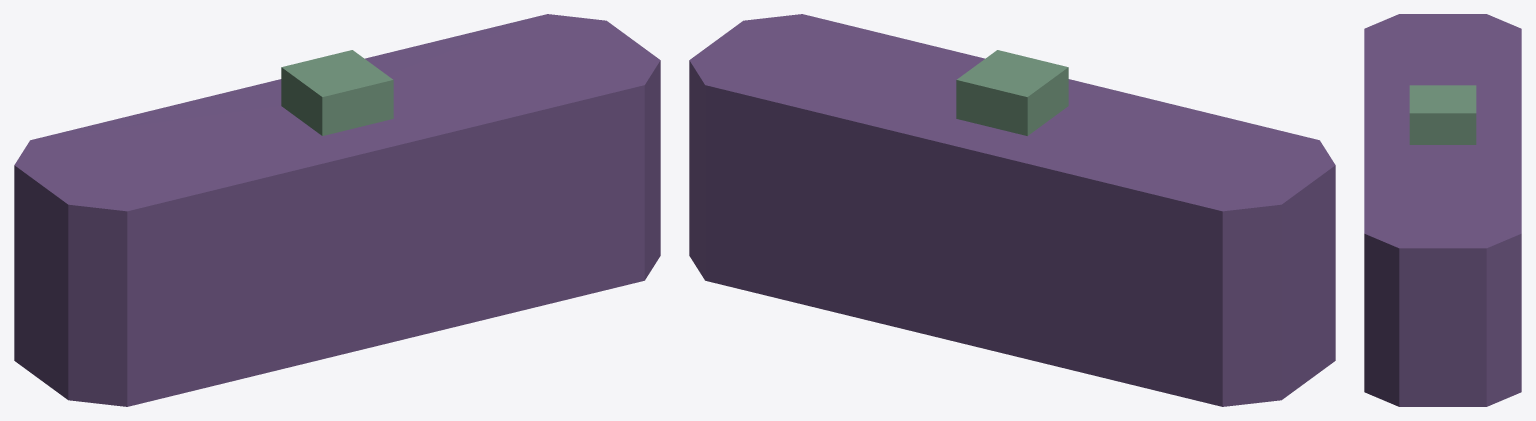
Rendered from 2_canonical.obj.
3 views of the same model, side by side, from view 1: azimuth 30°, elevation 25°; view 2: azimuth 150°, elevation 25°; view 3: azimuth 270°, elevation 25° (orthographic). The views are drawn at different scales.
Parts seen in each view (by area): view 1: geometry_1, geometry_0; view 2: geometry_1, geometry_0; view 3: geometry_1, geometry_0.
Boxes of the visible parts, x1,y1,x2,y2 form: geometry_1: [14, 14, 660, 406]; geometry_0: [281, 50, 393, 135]; geometry_1: [689, 14, 1335, 406]; geometry_0: [956, 50, 1068, 135]; geometry_1: [1364, 14, 1521, 406]; geometry_0: [1409, 85, 1476, 144].
Size of the model in its own units: 0.1584 by 0.06 by 0.045.
